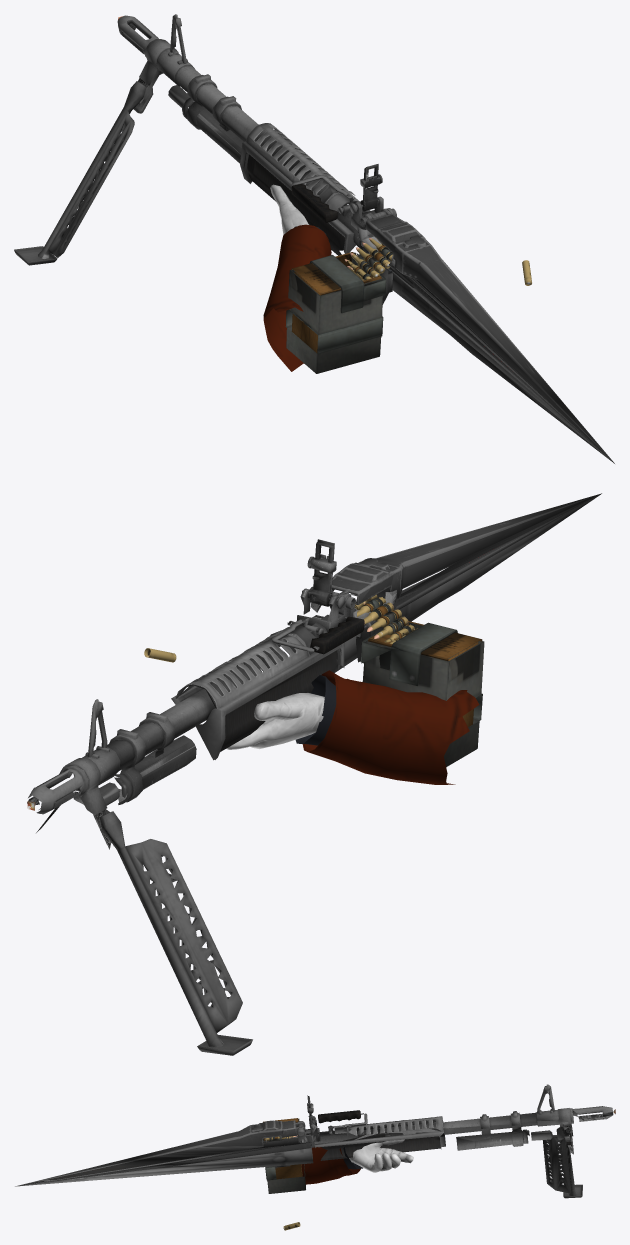
Rendered from frame_13.obj.
3 renders of one model, top to bottom at view 1: azimuth 30°, elevation 25°; view 2: azimuth 150°, elevation 25°; view 3: azimuth 270°, elevation 25°, orthographic. The views are drawn at different scales.
Parts seen in each view (by area): view 1: Mesh.005, PlayerModelMerged.001_PlayerModelMerged, Mesh.001; view 2: Mesh.005, PlayerModelMerged.001_PlayerModelMerged, Mesh.001; view 3: Mesh.005, PlayerModelMerged.001_PlayerModelMerged.
Boxes of the visible parts, x1=… form: Mesh.005: x1=14, y1=14, x2=614, y2=463; PlayerModelMerged.001_PlayerModelMerged: x1=263, y1=184, x2=331, y2=371; Mesh.001: x1=344, y1=238, x2=393, y2=279; Mesh.005: x1=27, y1=493, x2=601, y2=1055; PlayerModelMerged.001_PlayerModelMerged: x1=226, y1=670, x2=479, y2=784; Mesh.001: x1=355, y1=597, x2=414, y2=642; Mesh.005: x1=15, y1=1084, x2=613, y2=1198; PlayerModelMerged.001_PlayerModelMerged: x1=301, y1=1139, x2=413, y2=1184.
Size of the model in its own units: 0.8112 by 0.6118 by 2.26.
